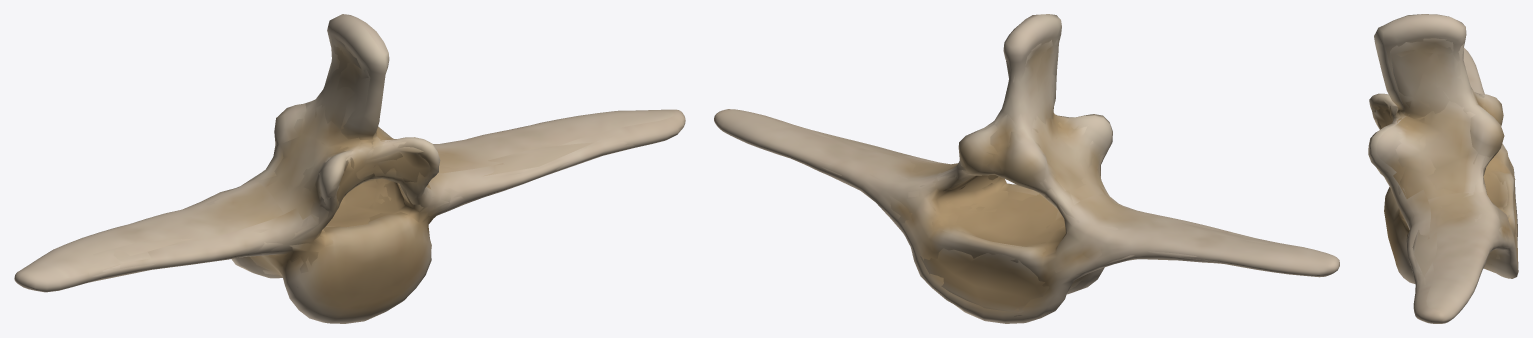
File: vertebrae lumbales 1.fbx
The picture shows the model from 3 angles, left to right: view 1: azimuth 30°, elevation 25°; view 2: azimuth 150°, elevation 25°; view 3: azimuth 270°, elevation 25°; orthographic projection. The views are drawn at different scales.
Visible parts, largest first — view 1: vertebrae lumbales 1, vertebrae lumbales 1 low; view 2: vertebrae lumbales 1, vertebrae lumbales 1 low; view 3: vertebrae lumbales 1, vertebrae lumbales 1 low.
Part boxes in pixels (x1,y1,x2,y2): vertebrae lumbales 1: (14, 14, 685, 323); vertebrae lumbales 1 low: (89, 38, 639, 287); vertebrae lumbales 1: (714, 14, 1339, 323); vertebrae lumbales 1 low: (793, 39, 1280, 316); vertebrae lumbales 1: (1368, 14, 1518, 323); vertebrae lumbales 1 low: (1374, 38, 1517, 292).
Size of the model in its own units: 26 by 11.03 by 5.69.
1 material, 1 textured.
